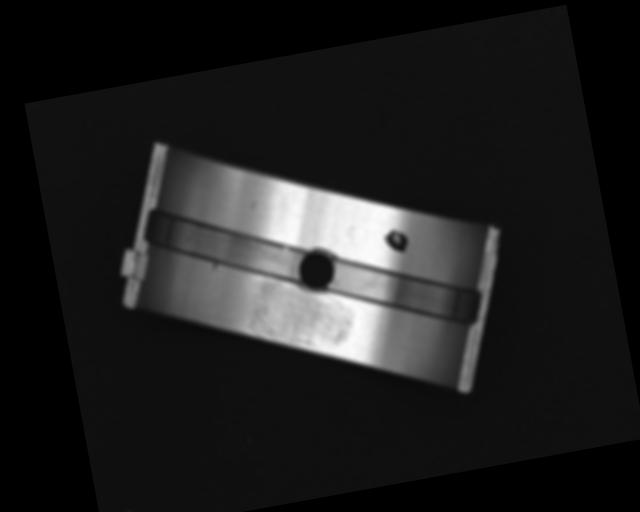blot: (382, 227, 411, 257)
bruise: (208, 258, 221, 272), (249, 200, 260, 211)
gap: (145, 181, 316, 310), (320, 230, 486, 358)
hole: (288, 242, 342, 298)
scratch: (240, 261, 362, 362)
